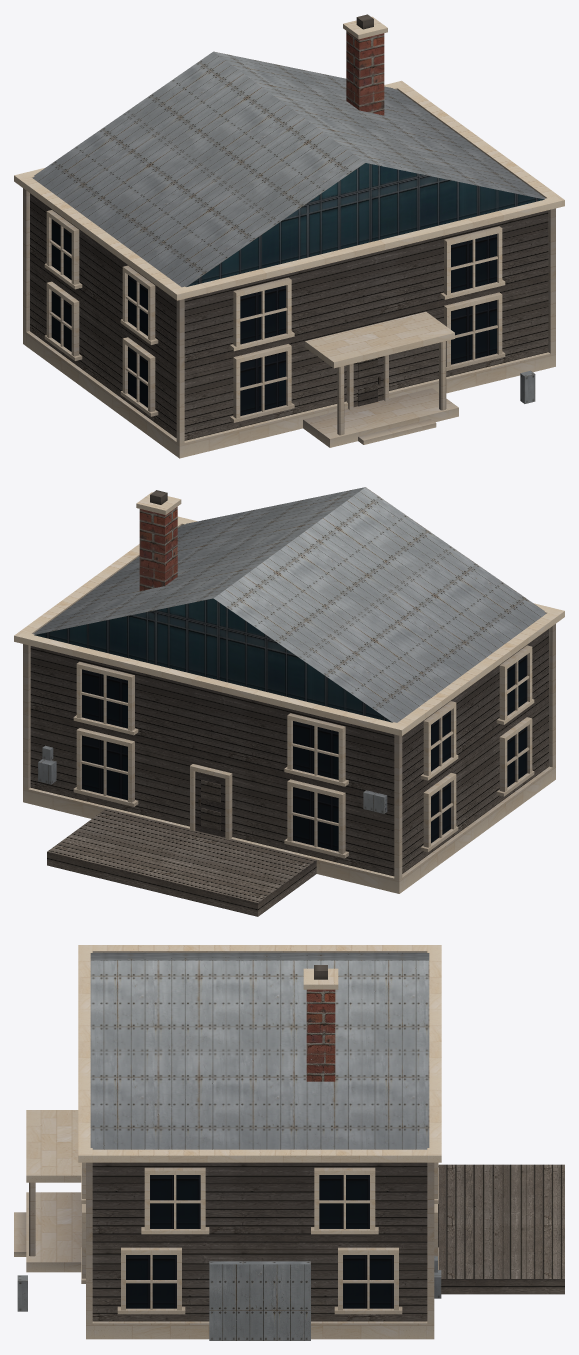
Rendered from glass-gable-house_lod0.gltf.
3 views of the same model, one above another, from view 1: azimuth 30°, elevation 25°; view 2: azimuth 150°, elevation 25°; view 3: azimuth 270°, elevation 25° (orthographic). The views are drawn at different scales.
Visible parts, largest first — view 1: glass-gable-house_roof, glass-gable-house_walls, glass-gable-house__v4_stone_detail, glass-gable-house_gable_ends, glass-gable-house_fen_04-limestone_0, glass-gable-house_fen_07-glass-curtain-blue_5_t, glass-gable-house__v4_brick_detail, glass-gable-house_fen_18-timber-siding_2_t, glass-gable-house_fen_18-timber-siding_1; view 2: glass-gable-house_roof, glass-gable-house_walls, glass-gable-house__v4_stone_detail, glass-gable-house__deck, glass-gable-house_gable_ends, glass-gable-house_fen_04-limestone_0, glass-gable-house_fen_07-glass-curtain-blue_5_t, glass-gable-house__v4_brick_detail, glass-gable-house_fen_18-timber-siding_1, glass-gable-house_fen_14-steel-panel_6, glass-gable-house_fen_18-timber-siding_2_t; view 3: glass-gable-house_roof, glass-gable-house_walls, glass-gable-house__v4_stone_detail, glass-gable-house__deck, glass-gable-house_fen_07-glass-curtain-blue_5_t, glass-gable-house_fen_04-limestone_0, glass-gable-house__garage_door, glass-gable-house__v4_brick_detail.
Part boxes in pixels (<box>): glass-gable-house_roof: <box>33,51,545,287</box>; glass-gable-house_walls: <box>30,193,548,440</box>; glass-gable-house__v4_stone_detail: <box>14,16,564,458</box>; glass-gable-house_gable_ends: <box>187,163,544,286</box>; glass-gable-house_fen_04-limestone_0: <box>44,210,505,422</box>; glass-gable-house_fen_07-glass-curtain-blue_5_t: <box>51,219,496,415</box>; glass-gable-house__v4_brick_detail: <box>346,31,384,115</box>; glass-gable-house_fen_18-timber-siding_2_t: <box>358,357,377,406</box>; glass-gable-house_fen_18-timber-siding_1: <box>353,356,383,406</box>; glass-gable-house_roof: <box>33,487,546,722</box>; glass-gable-house_walls: <box>30,629,548,876</box>; glass-gable-house__v4_stone_detail: <box>14,492,564,893</box>; glass-gable-house__deck: <box>47,809,316,916</box>; glass-gable-house_gable_ends: <box>34,598,392,722</box>; glass-gable-house_fen_04-limestone_0: <box>73,645,534,858</box>; glass-gable-house_fen_07-glass-curtain-blue_5_t: <box>82,655,527,851</box>; glass-gable-house__v4_brick_detail: <box>139,507,177,590</box>; glass-gable-house_fen_18-timber-siding_1: <box>195,771,225,837</box>; glass-gable-house_fen_14-steel-panel_6: <box>38,745,387,813</box>; glass-gable-house_fen_18-timber-siding_2_t: <box>201,780,220,830</box>; glass-gable-house_roof: <box>90,952,429,1149</box>; glass-gable-house_walls: <box>92,1162,427,1321</box>; glass-gable-house__v4_stone_detail: <box>14,945,441,1339</box>; glass-gable-house__deck: <box>438,1164,564,1294</box>; glass-gable-house_fen_07-glass-curtain-blue_5_t: <box>126,1175,393,1308</box>; glass-gable-house_fen_04-limestone_0: <box>81,1162,438,1314</box>; glass-gable-house__garage_door: <box>209,1261,310,1340</box>; glass-gable-house__v4_brick_detail: <box>306,989,335,1081</box>.
Bounding box in the file's own units: 14.72 × 10.59 × 16.26.
